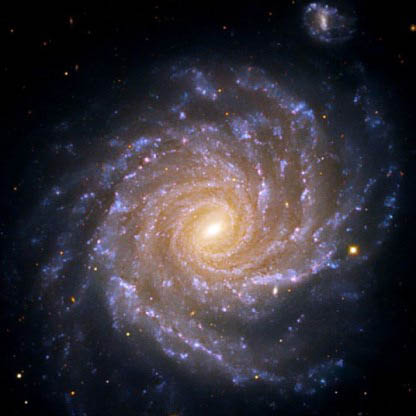NGC 1232: (33, 4, 401, 403)
